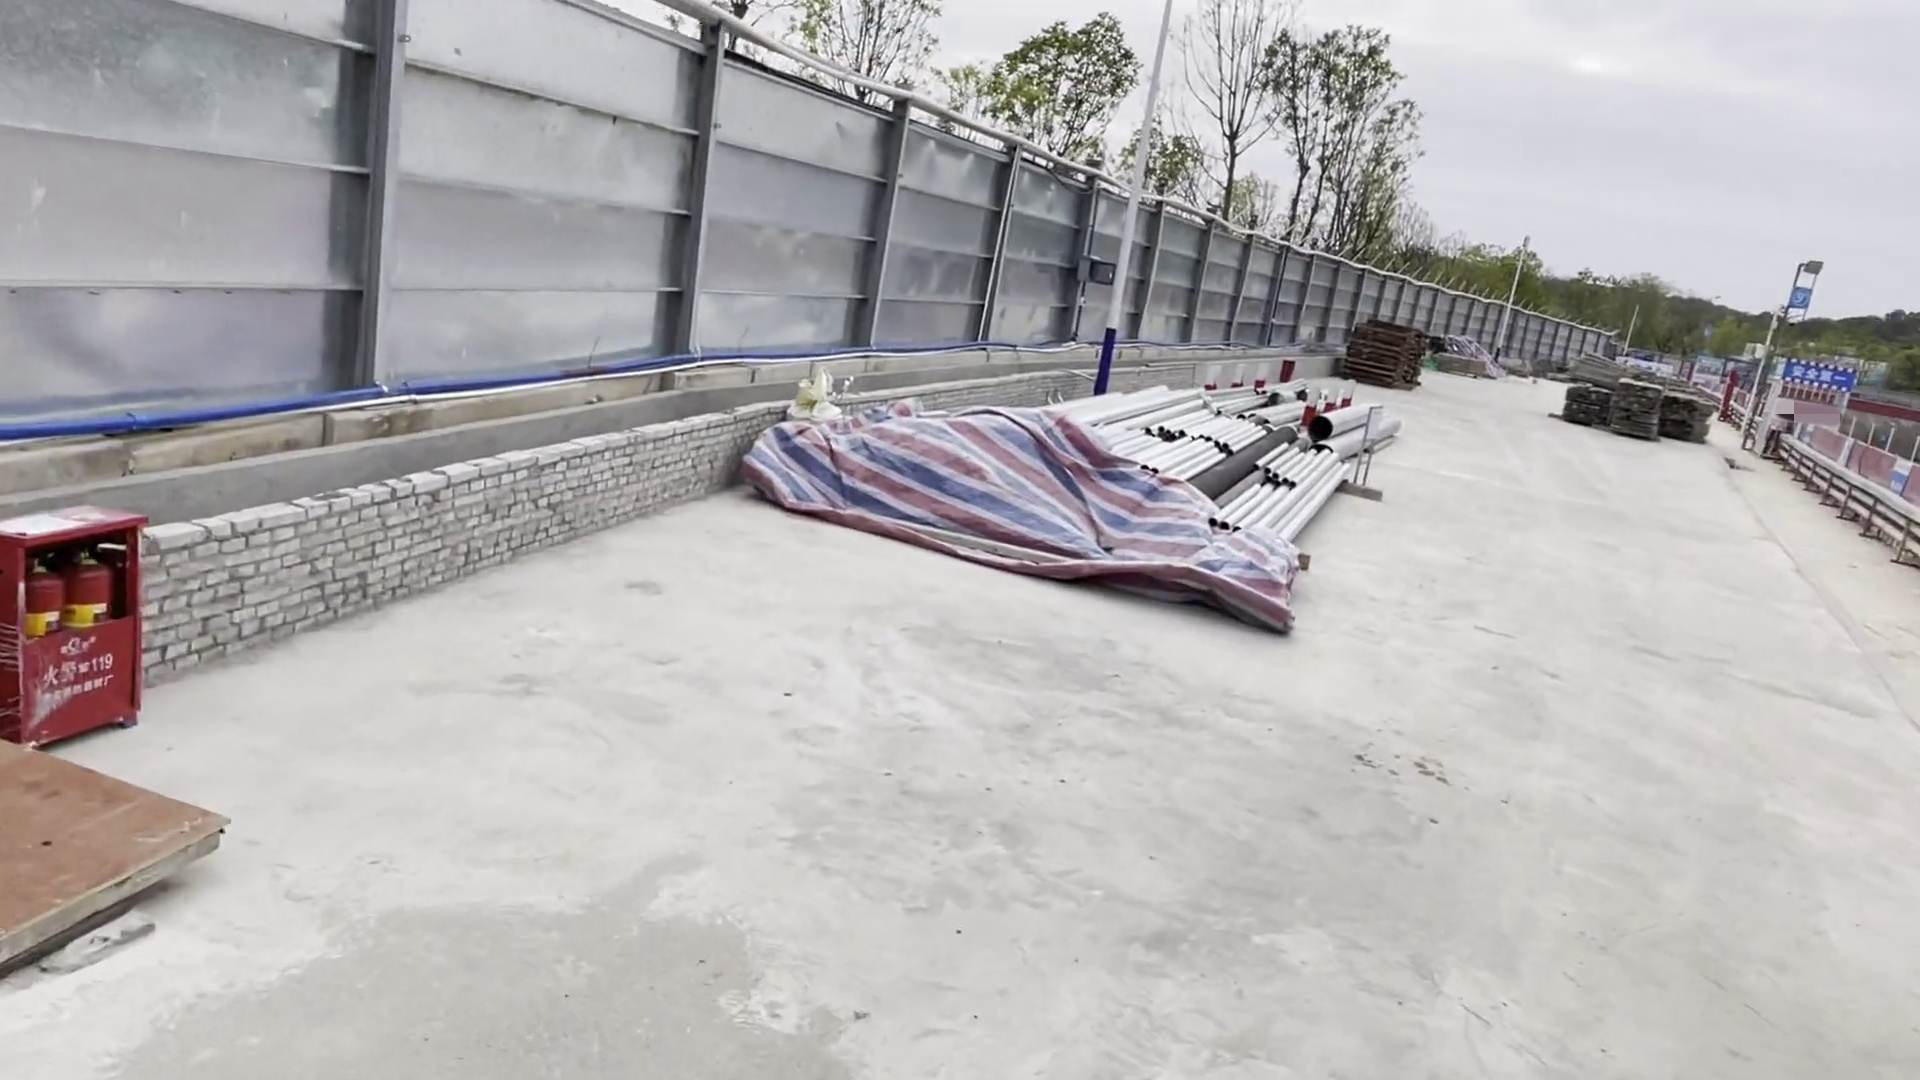brick: (144, 407, 748, 676), (858, 378, 1065, 419)
slogan: (1785, 357, 1850, 385), (1883, 455, 1904, 492)
